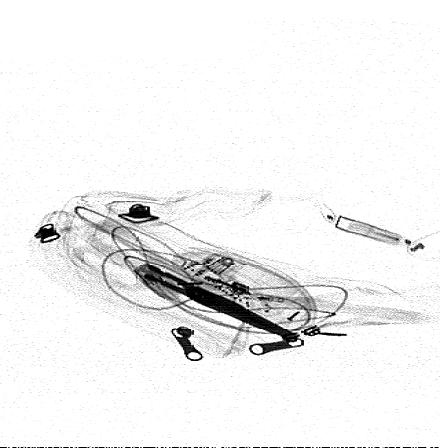Scissors: (68, 216, 306, 344)
